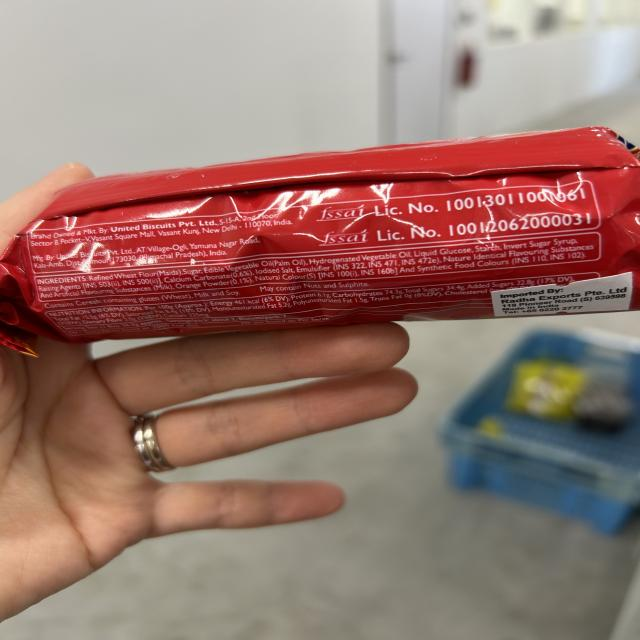object_name: (47, 180, 631, 315)
